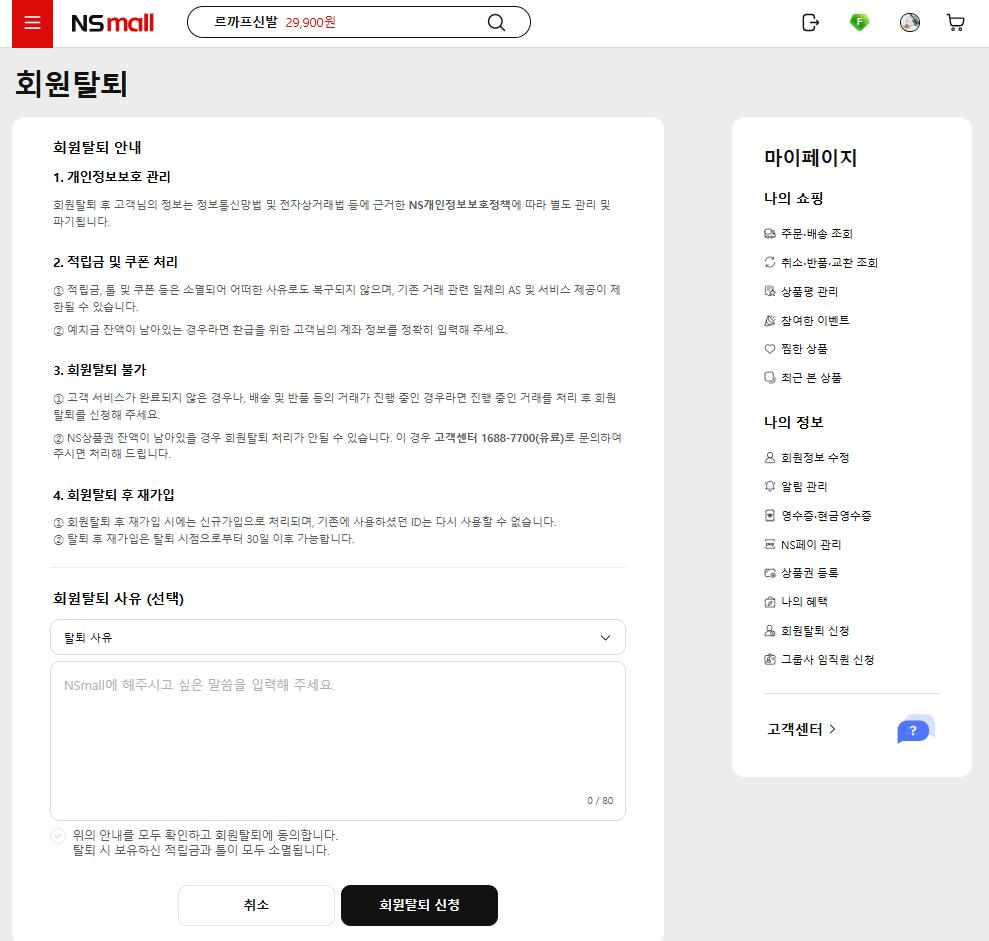button: (180, 890, 329, 921), (349, 894, 500, 923), (763, 560, 867, 591), (753, 220, 870, 247), (756, 247, 894, 269), (777, 653, 897, 674), (767, 531, 856, 559), (764, 280, 870, 303), (924, 0, 983, 40), (759, 370, 871, 391), (757, 443, 866, 463), (751, 509, 903, 523), (777, 3, 827, 43), (761, 720, 844, 744), (761, 474, 851, 496), (881, 4, 930, 44), (769, 623, 879, 640), (767, 336, 846, 359), (766, 596, 850, 617), (753, 316, 867, 331), (829, 6, 874, 39)
checkbox: (51, 621, 626, 654)
input_field: (51, 663, 624, 821), (189, 3, 536, 39)
